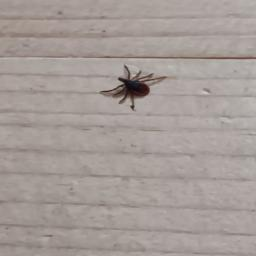Ixodes scapularis: (101, 64, 169, 108)
